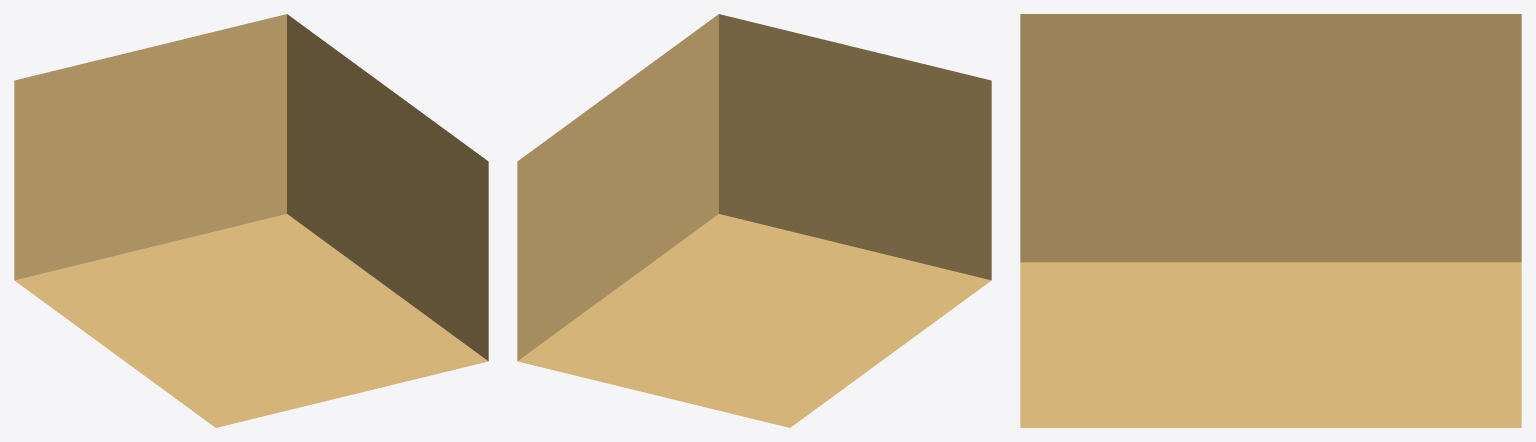
The model's file is lighting-fixtures-grand-heritage-021.glb.
3 views of the same model, side by side, from view 1: azimuth 30°, elevation 25°; view 2: azimuth 150°, elevation 25°; view 3: azimuth 270°, elevation 25° (orthographic). The views are drawn at different scales.
Parts seen in each view (by area): view 1: Grand Heritage Lighting Fixtures; view 2: Grand Heritage Lighting Fixtures; view 3: Grand Heritage Lighting Fixtures.
Part boxes in pixels (x1,y1,x2,y2): Grand Heritage Lighting Fixtures: (14, 14, 488, 427); Grand Heritage Lighting Fixtures: (517, 14, 991, 427); Grand Heritage Lighting Fixtures: (1020, 14, 1521, 427).
Bounding box in the file's own units: 2 × 1.4 × 2.56.
